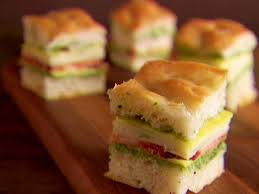soup: (105, 59, 234, 192)
